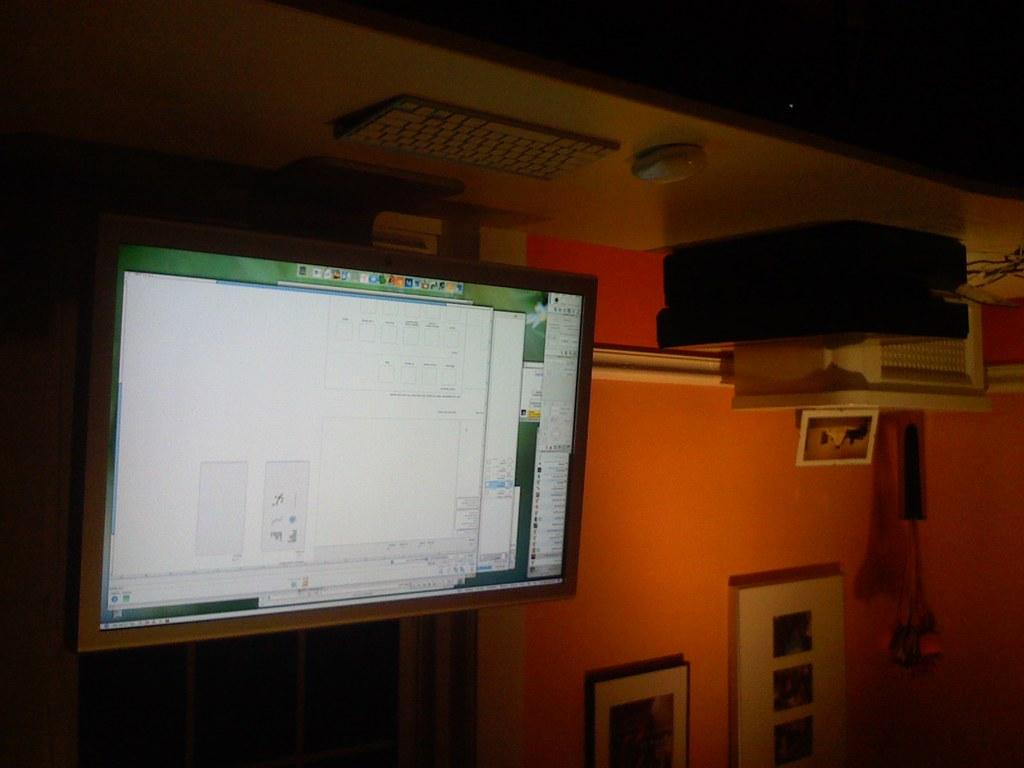Computer-monitor: (72, 212, 604, 659)
